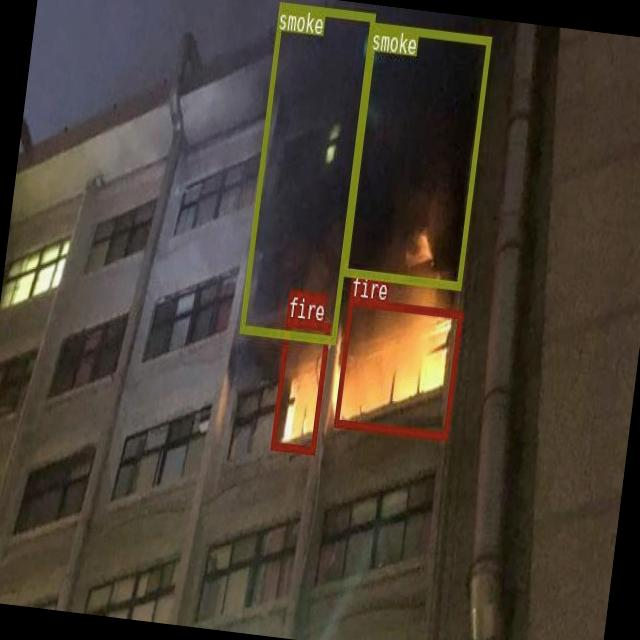fire: (333, 296, 462, 438), (270, 317, 330, 452)
smoke: (238, 1, 374, 342), (341, 21, 490, 288)
